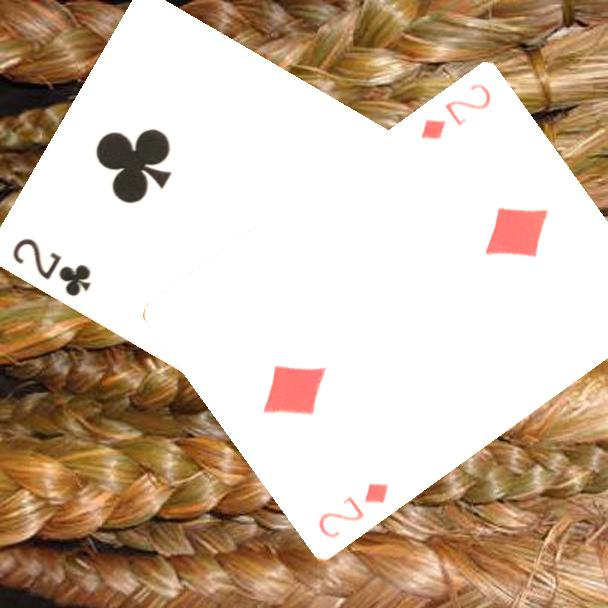c02: (9, 234, 95, 300)
d02: (417, 80, 494, 144), (314, 480, 392, 543)
